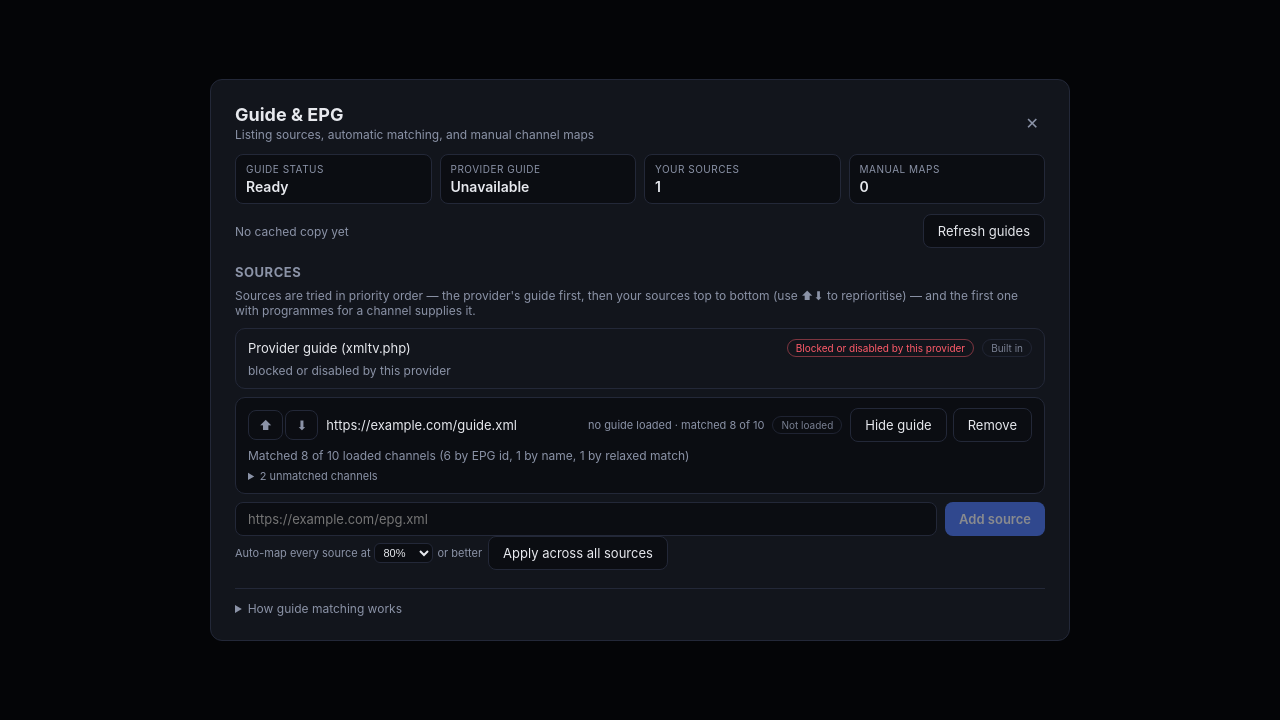
GuideSettingsPage › adds a source through the store
The image size is (1280, 720).
Type "https://another.test/e.xml" into the field with placeholder "https://example.com/epg.xml" at (586, 519), box [235,502,937,536]
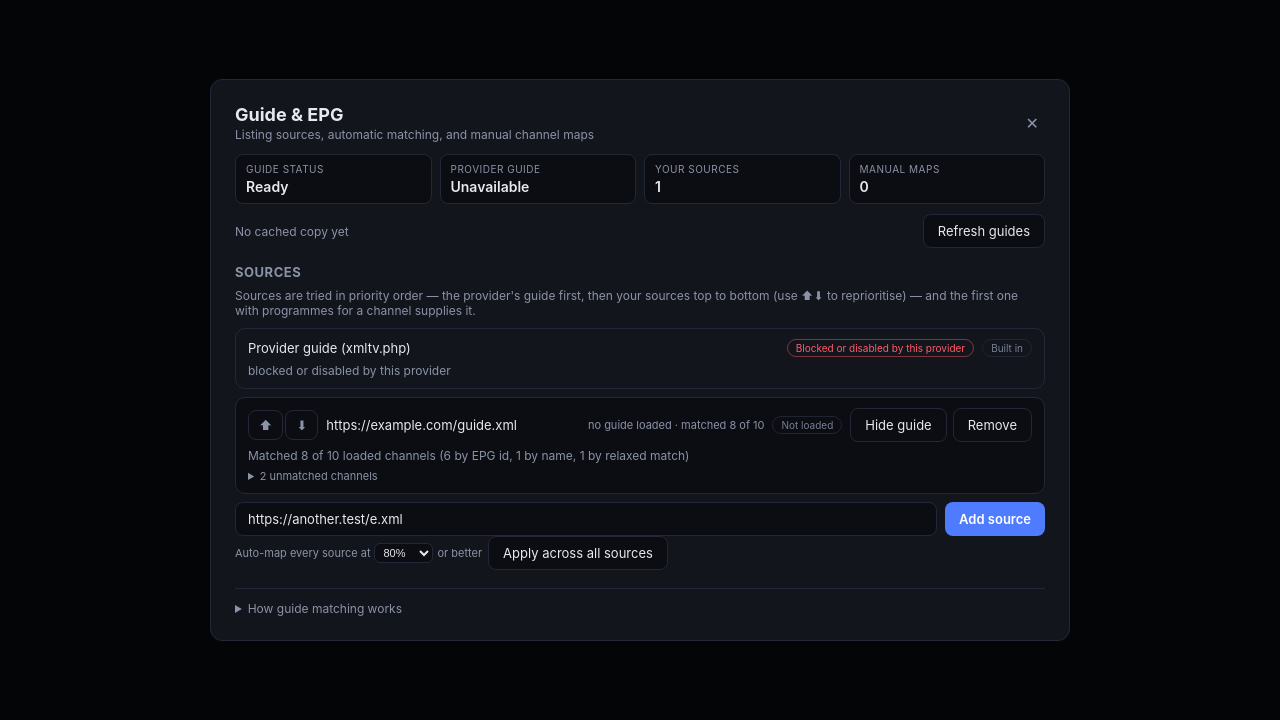
Click the button "Add source" at (995, 519), box [945,502,1045,536]
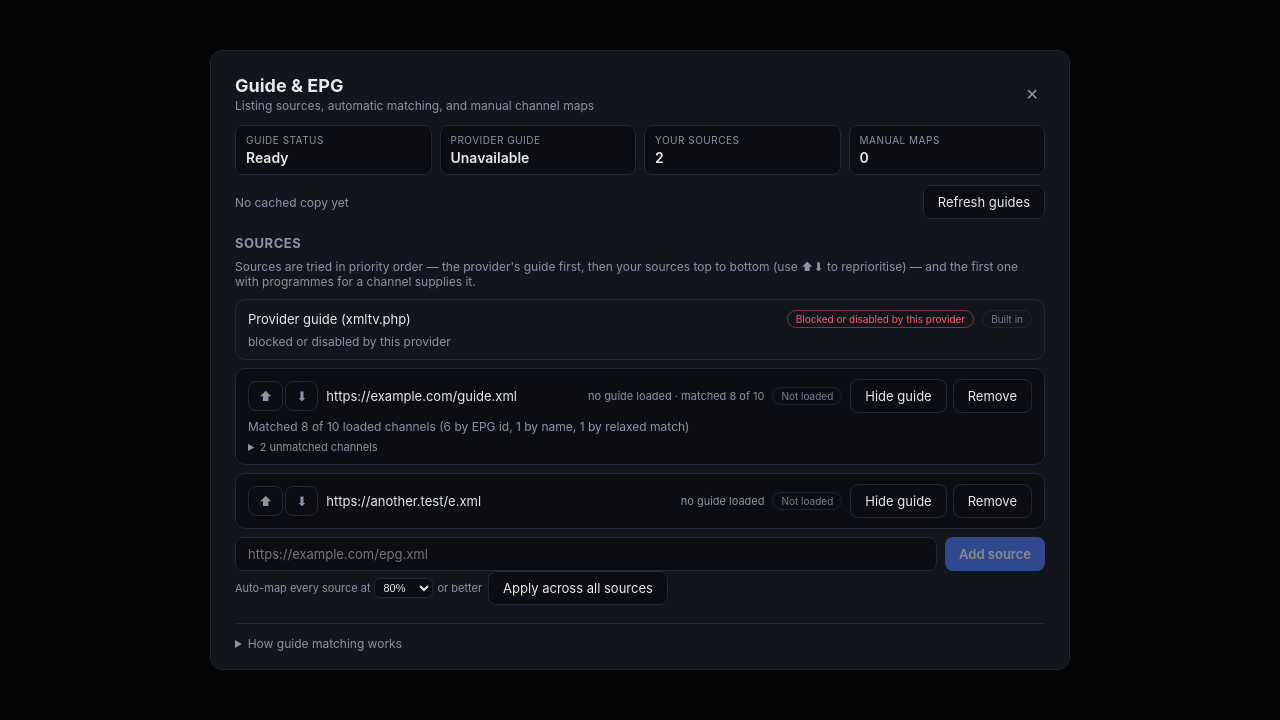
Result: the text "https://another.test/e.xml" is shown at [326,493,481,509]
